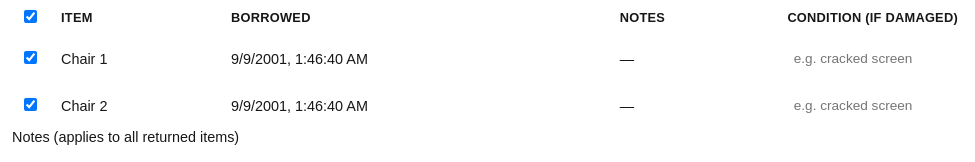
it: header select-all checkbox › becomes indeterminate when only some rows are checked
The width and height of the screenshot is (975, 162).
Click the checkbox named "Select Chair 1": (30, 57) [24, 51, 37, 64]
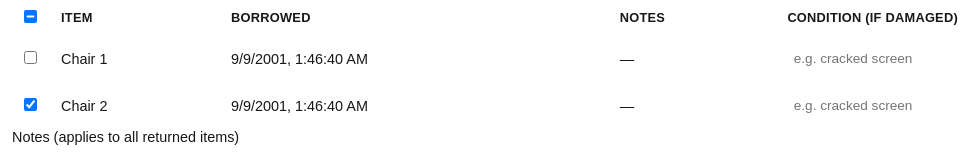
Check: the checkbox named "Select all items" is not checked, box [24, 10, 37, 23]
